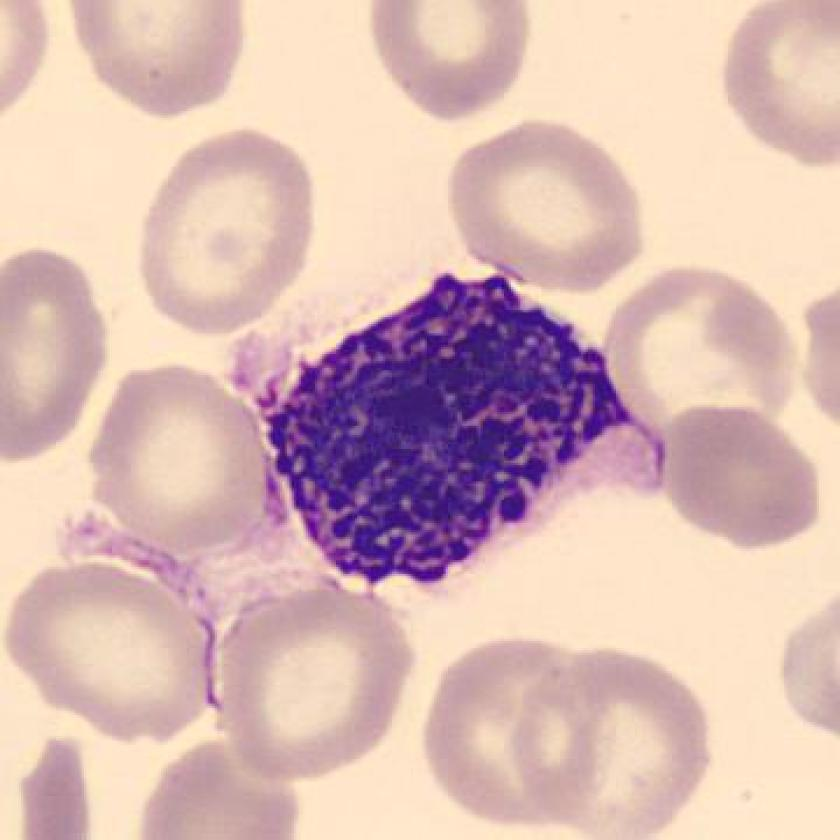basophil: (263, 254, 641, 601)
